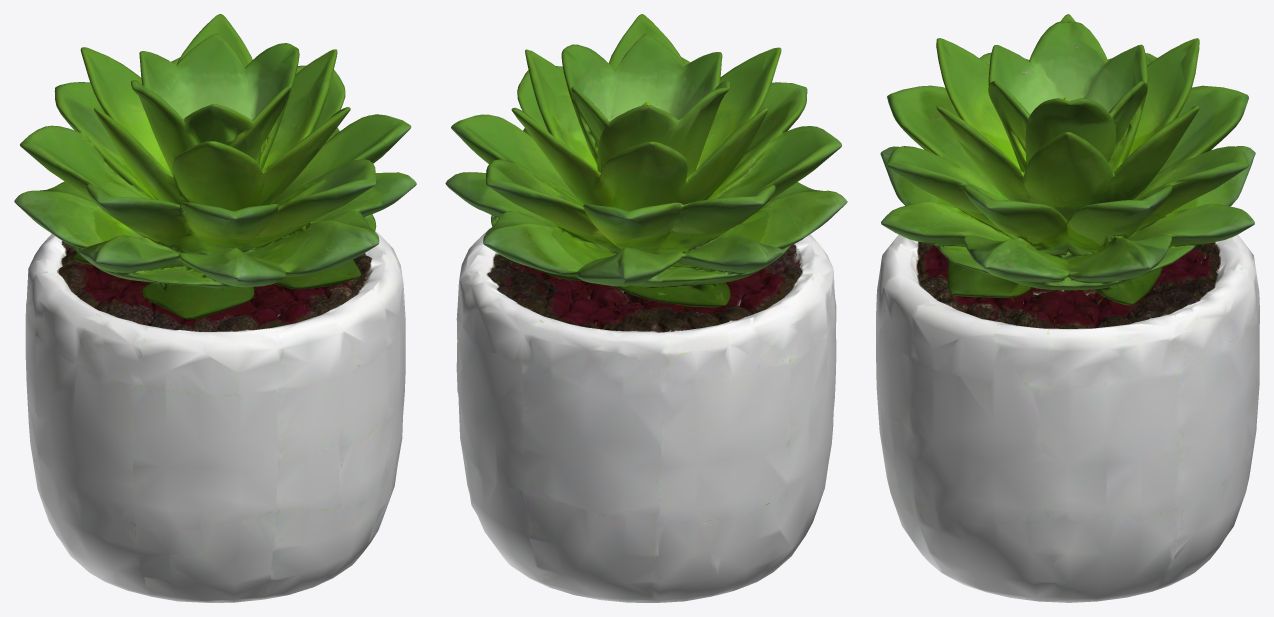
Rendered from Decorative Potted.glb.
3 views of the same model, side by side, from view 1: azimuth 30°, elevation 25°; view 2: azimuth 150°, elevation 25°; view 3: azimuth 270°, elevation 25° (orthographic).
Visible parts, largest first — view 1: Mesh_0; view 2: Mesh_0; view 3: Mesh_0.
Boxes of the visible parts, x1,y1,x2,y2 form: Mesh_0: [14, 14, 416, 602]; Mesh_0: [445, 14, 847, 602]; Mesh_0: [876, 14, 1259, 602].
Size of the model in its own units: 0.1713 by 0.2398 by 0.1713.
1 material, 1 textured.
